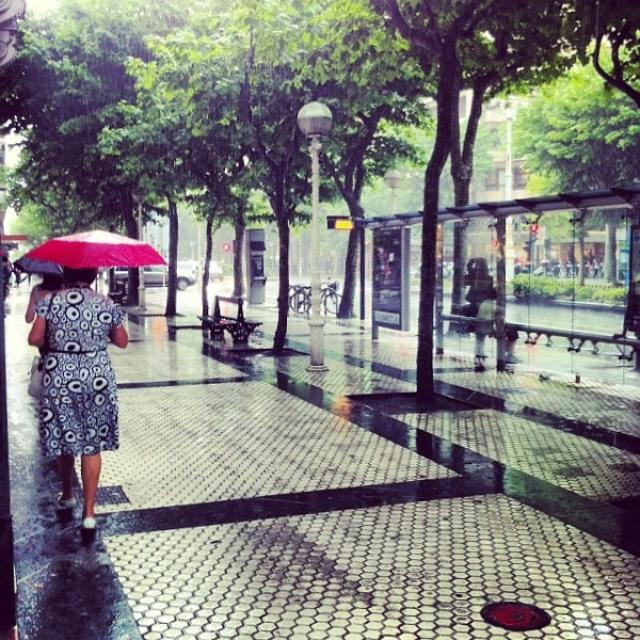Vehicle: (116, 263, 196, 291), (209, 263, 224, 281)
